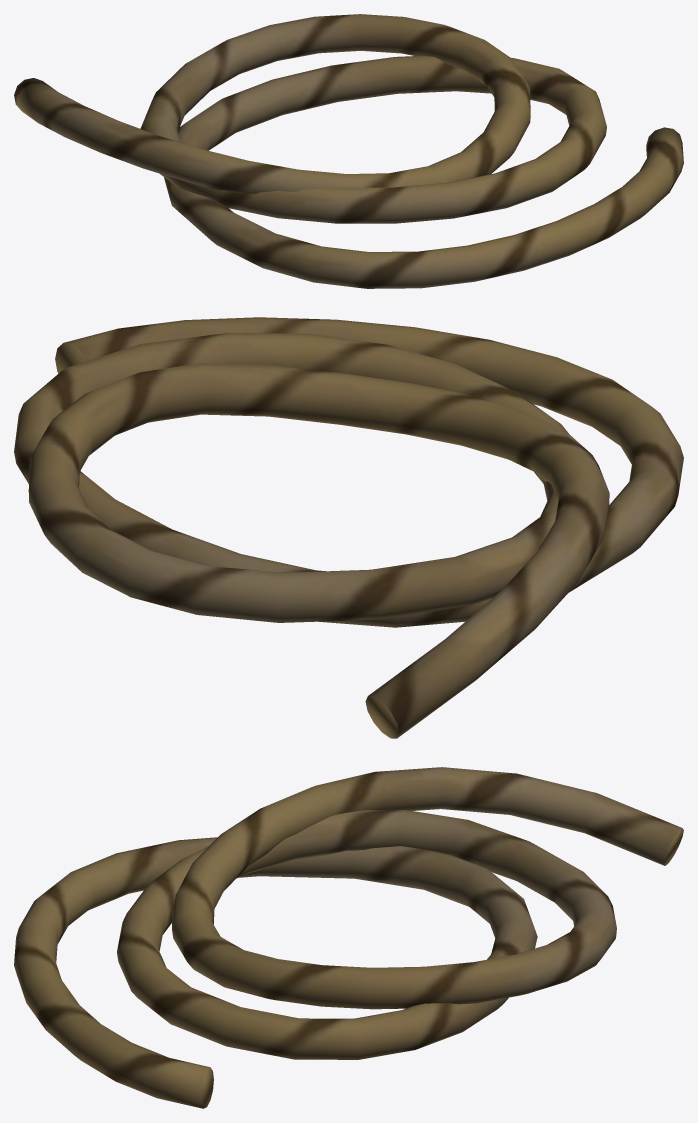
The model's file is Rope_2.gltf.
The picture shows the model from 3 angles, top to bottom: view 1: azimuth 30°, elevation 25°; view 2: azimuth 150°, elevation 25°; view 3: azimuth 270°, elevation 25°; orthographic projection. The views are drawn at different scales.
Parts seen in each view (by area): view 1: Rope_2; view 2: Rope_2; view 3: Rope_2.
Boxes of the visible parts, <box> form: Rope_2: <box>14,14,683,288</box>; Rope_2: <box>14,317,683,738</box>; Rope_2: <box>14,767,683,1108</box>.
Bounding box in the file's own units: 0.8078 × 0.1236 × 0.845.
Materials: 1 (1 with a texture image).
